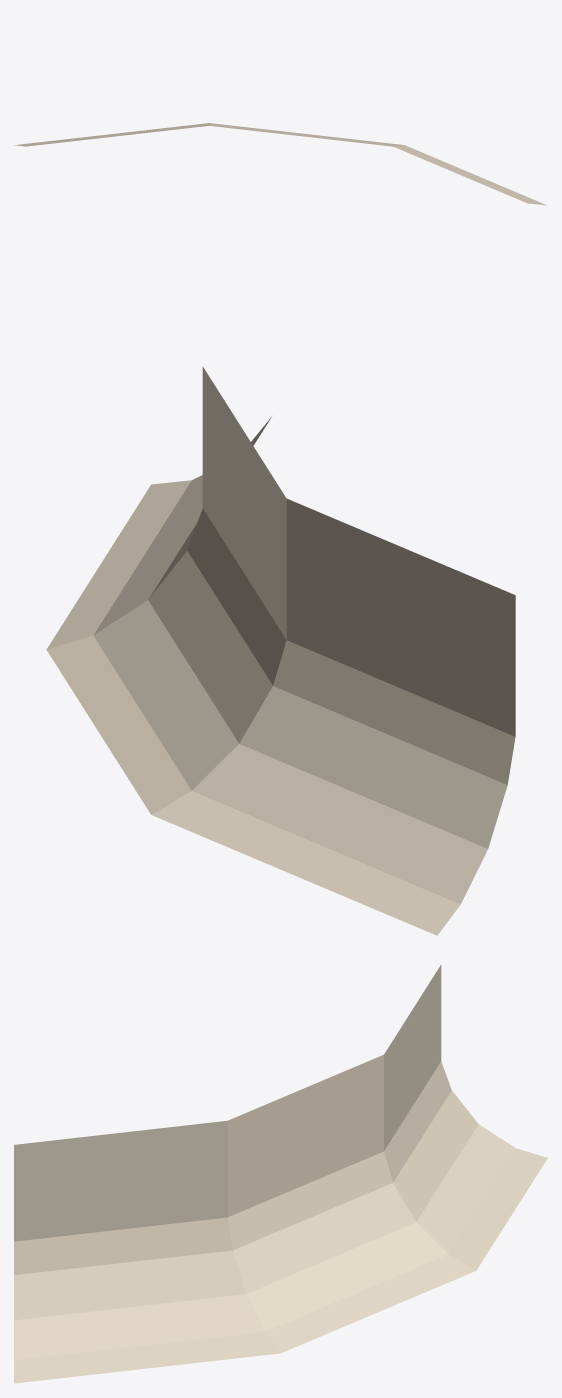
Rendered from Escarpment_Terrain_Corner_Outer_3x3_Base.glb.
The picture shows the model from 3 angles, top to bottom: view 1: azimuth 30°, elevation 25°; view 2: azimuth 150°, elevation 25°; view 3: azimuth 270°, elevation 25°; orthographic projection. The views are drawn at different scales.
Visible parts, largest first — view 1: Escarpment_Terrain_Corner_Outer_3x3_Base; view 2: Escarpment_Terrain_Corner_Outer_3x3_Base; view 3: Escarpment_Terrain_Corner_Outer_3x3_Base.
Boxes of the visible parts, bbox=[...] form: Escarpment_Terrain_Corner_Outer_3x3_Base: bbox=[14, 123, 547, 205]; Escarpment_Terrain_Corner_Outer_3x3_Base: bbox=[46, 366, 515, 935]; Escarpment_Terrain_Corner_Outer_3x3_Base: bbox=[14, 964, 547, 1383].
Size of the model in its own units: 2.5 by 1 by 2.5.
